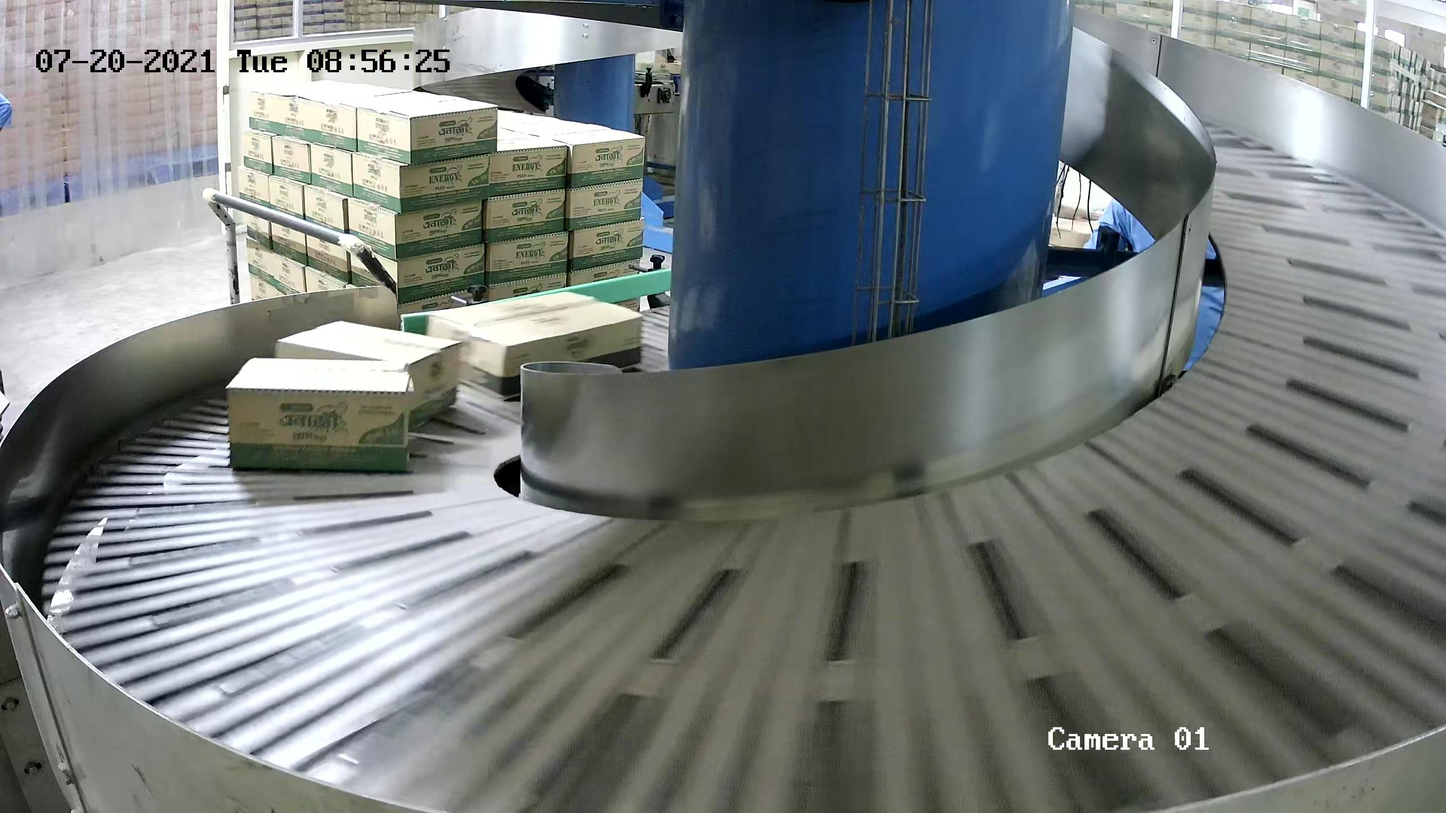Box: (426, 289, 645, 403), (224, 354, 414, 474), (273, 318, 461, 433)
